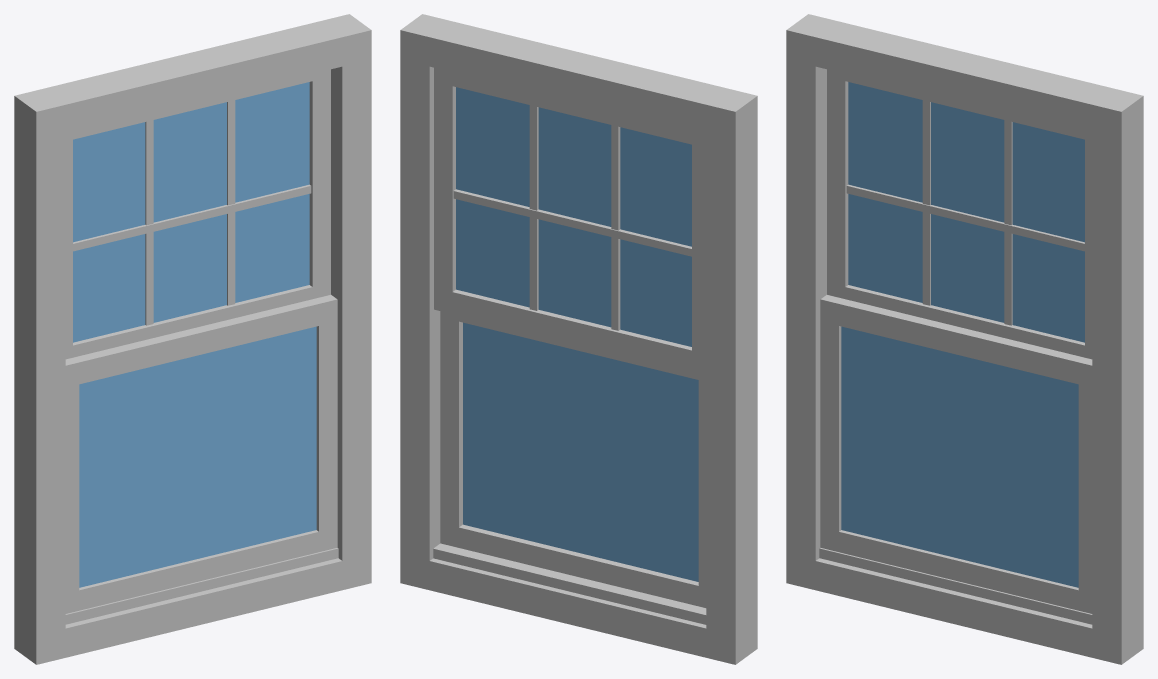
File: window.fbx
3 views of the same model, side by side, from view 1: azimuth 30°, elevation 25°; view 2: azimuth 150°, elevation 25°; view 3: azimuth 330°, elevation 25° (orthographic).
Parts seen in each view (by area): view 1: fenster; view 2: fenster; view 3: fenster.
Boxes of the visible parts, x1=… form: fenster: x1=14, y1=14, x2=371, y2=664; fenster: x1=400, y1=14, x2=757, y2=664; fenster: x1=786, y1=14, x2=1143, y2=664.
Bounding box in the file's own units: 1.06 × 1.67 × 0.1204.
